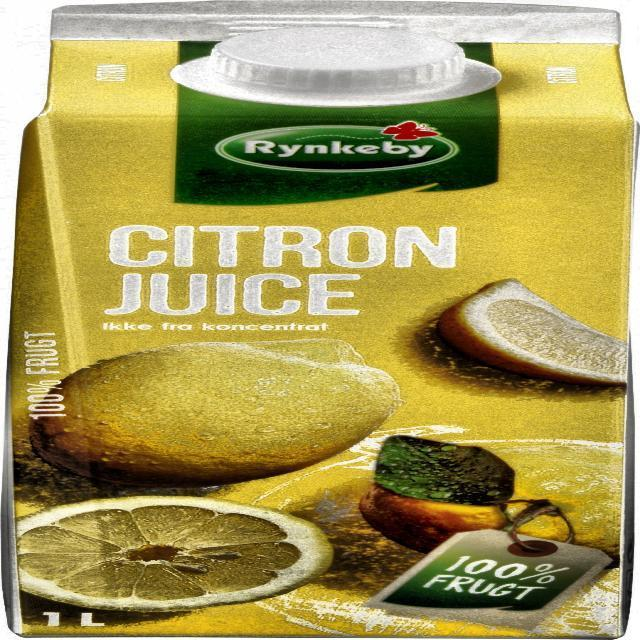cardboard: (12, 1, 628, 636)
